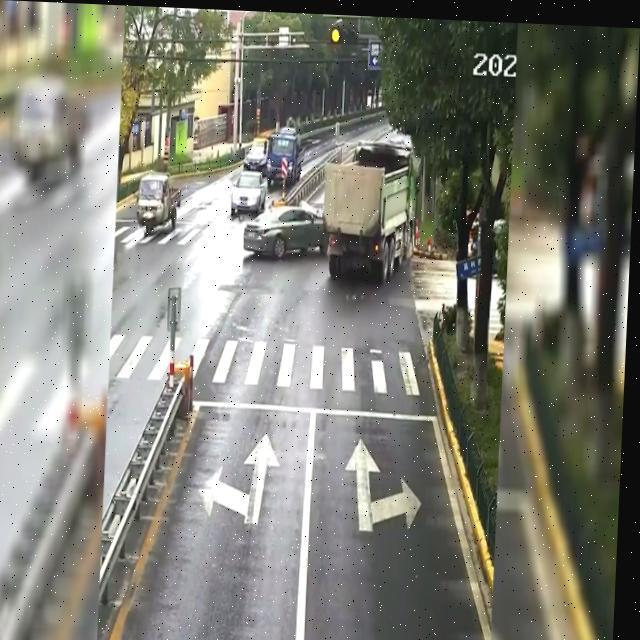multiple_accident: (218, 140, 488, 303)
